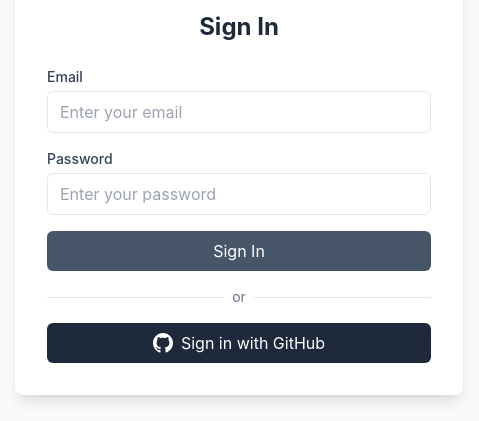
Test: LoginForm › shows MFA step when required
Type "test@example.com" into the field labelled "Email". click: (239, 112)
box: [47,91,431,133]
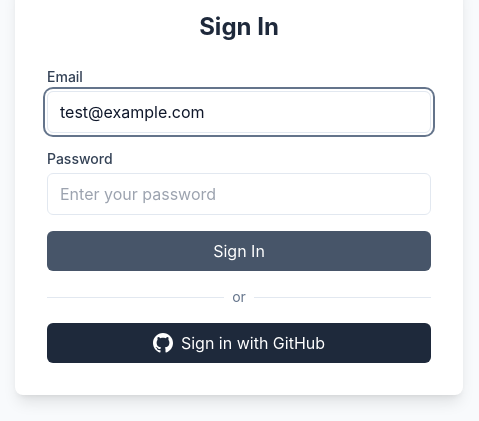
Type "StrongPass1" into the password field labelled "Password". click: (239, 194)
box: [47,173,431,215]
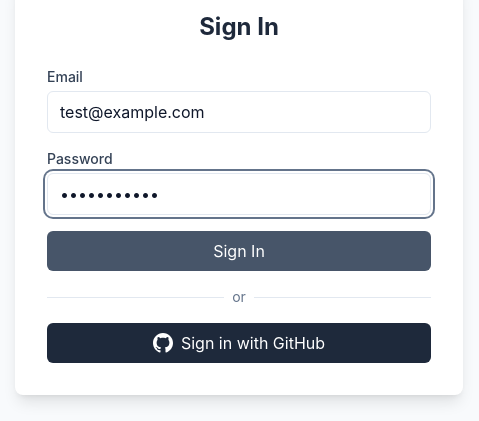
Click the button "Sign In". click: (239, 251)
box: [47,231,431,271]
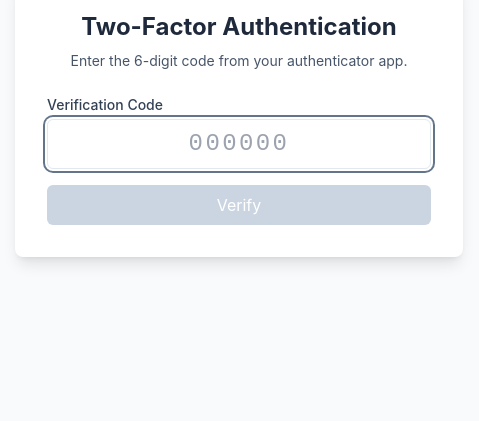
Result: the field labelled "Verification Code" is shown at [47,119,431,169]
